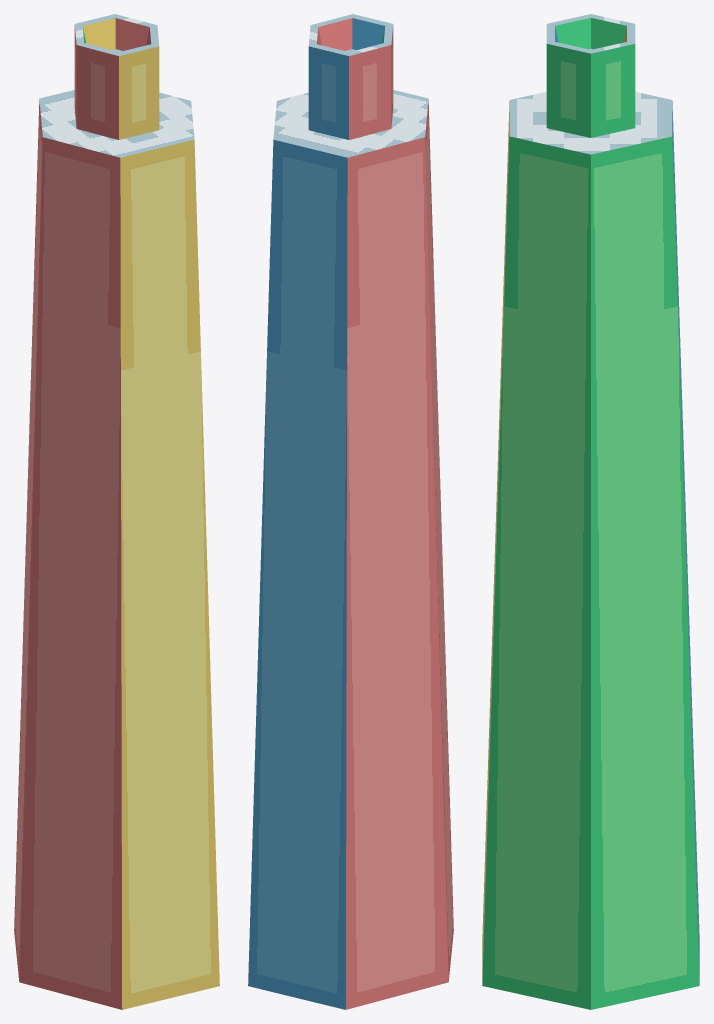
Rendered from smoke_stack.gltf.
The picture shows the model from 3 angles, left to right: view 1: azimuth 30°, elevation 25°; view 2: azimuth 150°, elevation 25°; view 3: azimuth 270°, elevation 25°; orthographic projection.
Visible parts, largest first — view 1: cylinder; view 2: cylinder; view 3: cylinder.
Part boxes in pixels (<box>): cylinder: <box>14,14,219,1009</box>; cylinder: <box>248,14,453,1009</box>; cylinder: <box>482,14,699,1009</box>.
Bounding box in the file's own units: 0.9137 × 4.12 × 0.875.
Materials: 1 (1 with a texture image).
